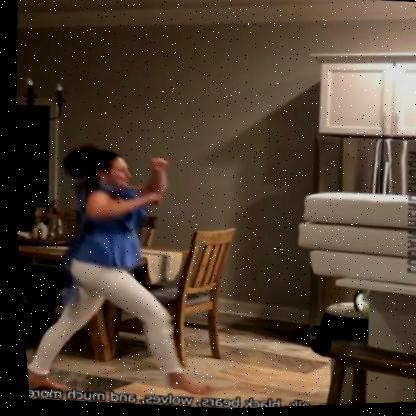person: (12, 129, 190, 390)
